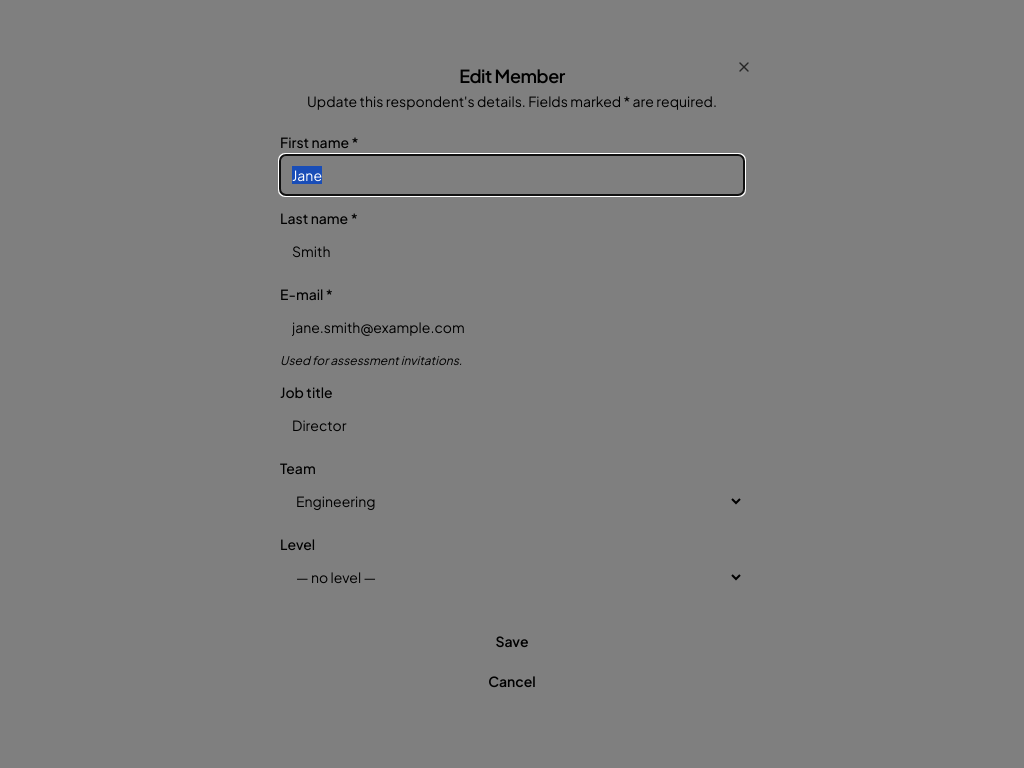
EditMemberModal › (5) failed PATCH surfaces specific Zod message and keeps modal open
# Clear first name to trigger server error
Replace the text in the field labelled "First name *" with "A" at (512, 175), box [280,155,744,195]
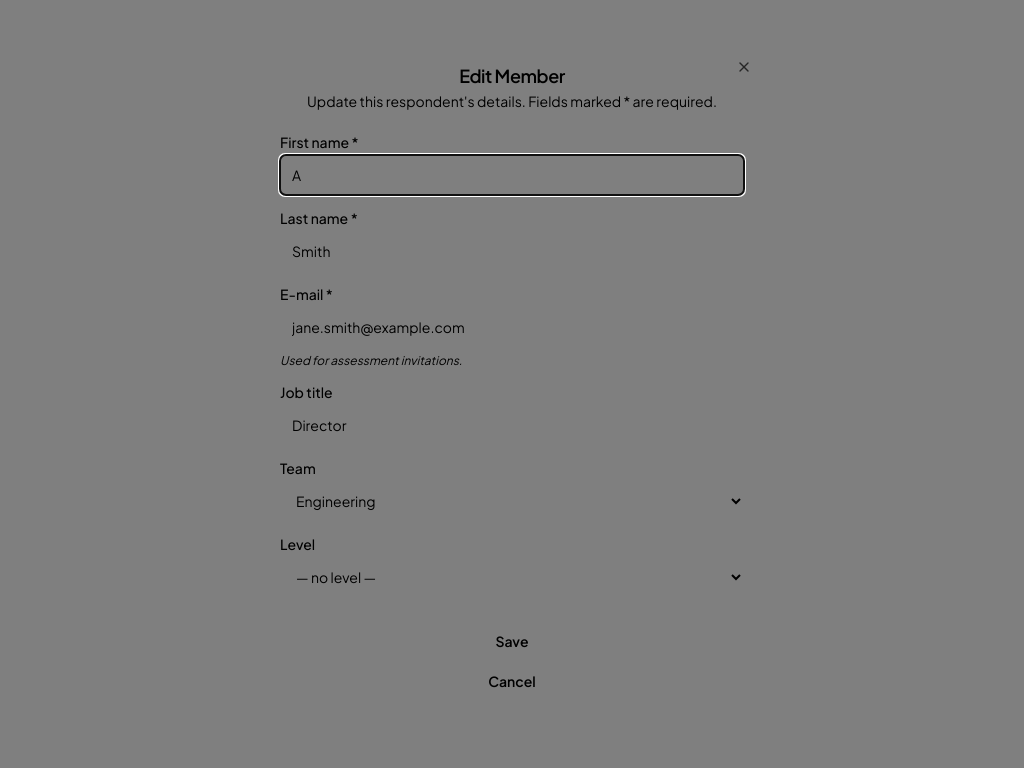
Click the button "Save" at (512, 641), box [280,621,744,661]
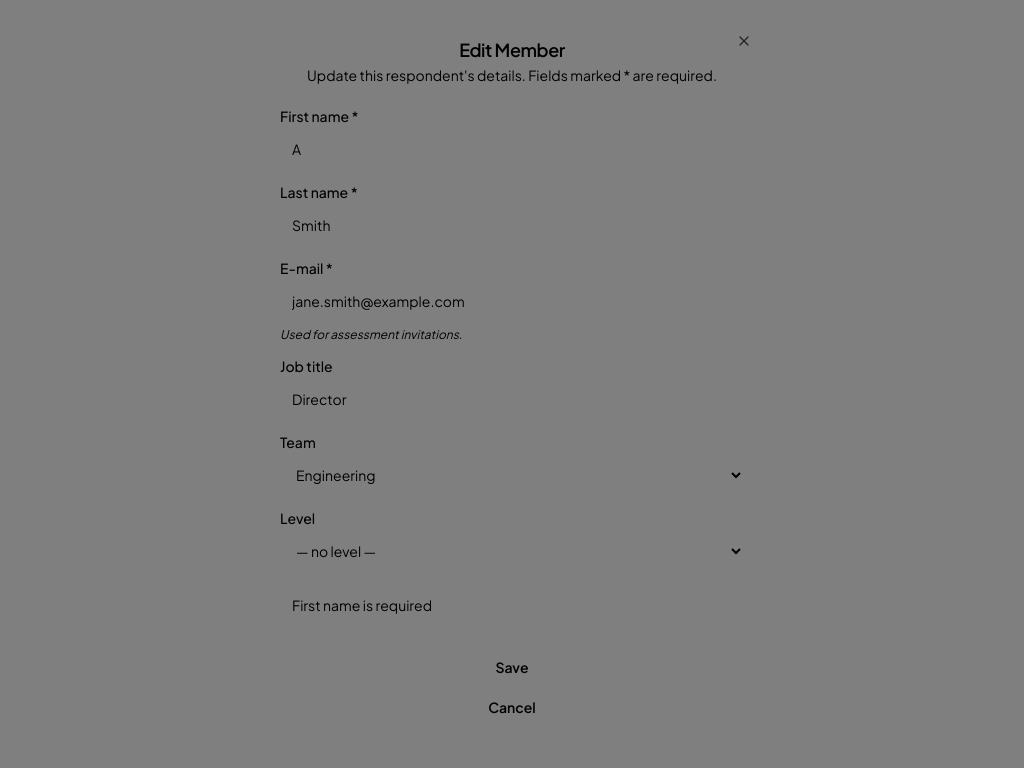
Now the message reads "First name is required", box [292,596,432,614]
